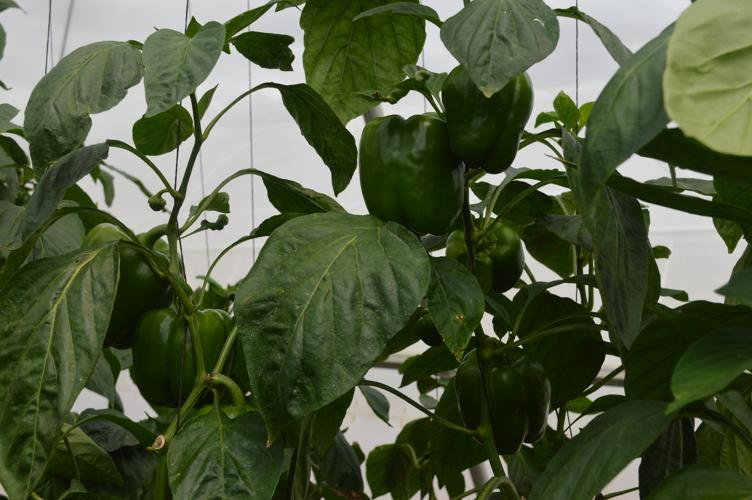BellPepper: (355, 114, 466, 229), (73, 224, 173, 343), (456, 342, 550, 449), (445, 66, 532, 172), (132, 313, 229, 406), (448, 218, 525, 294)
